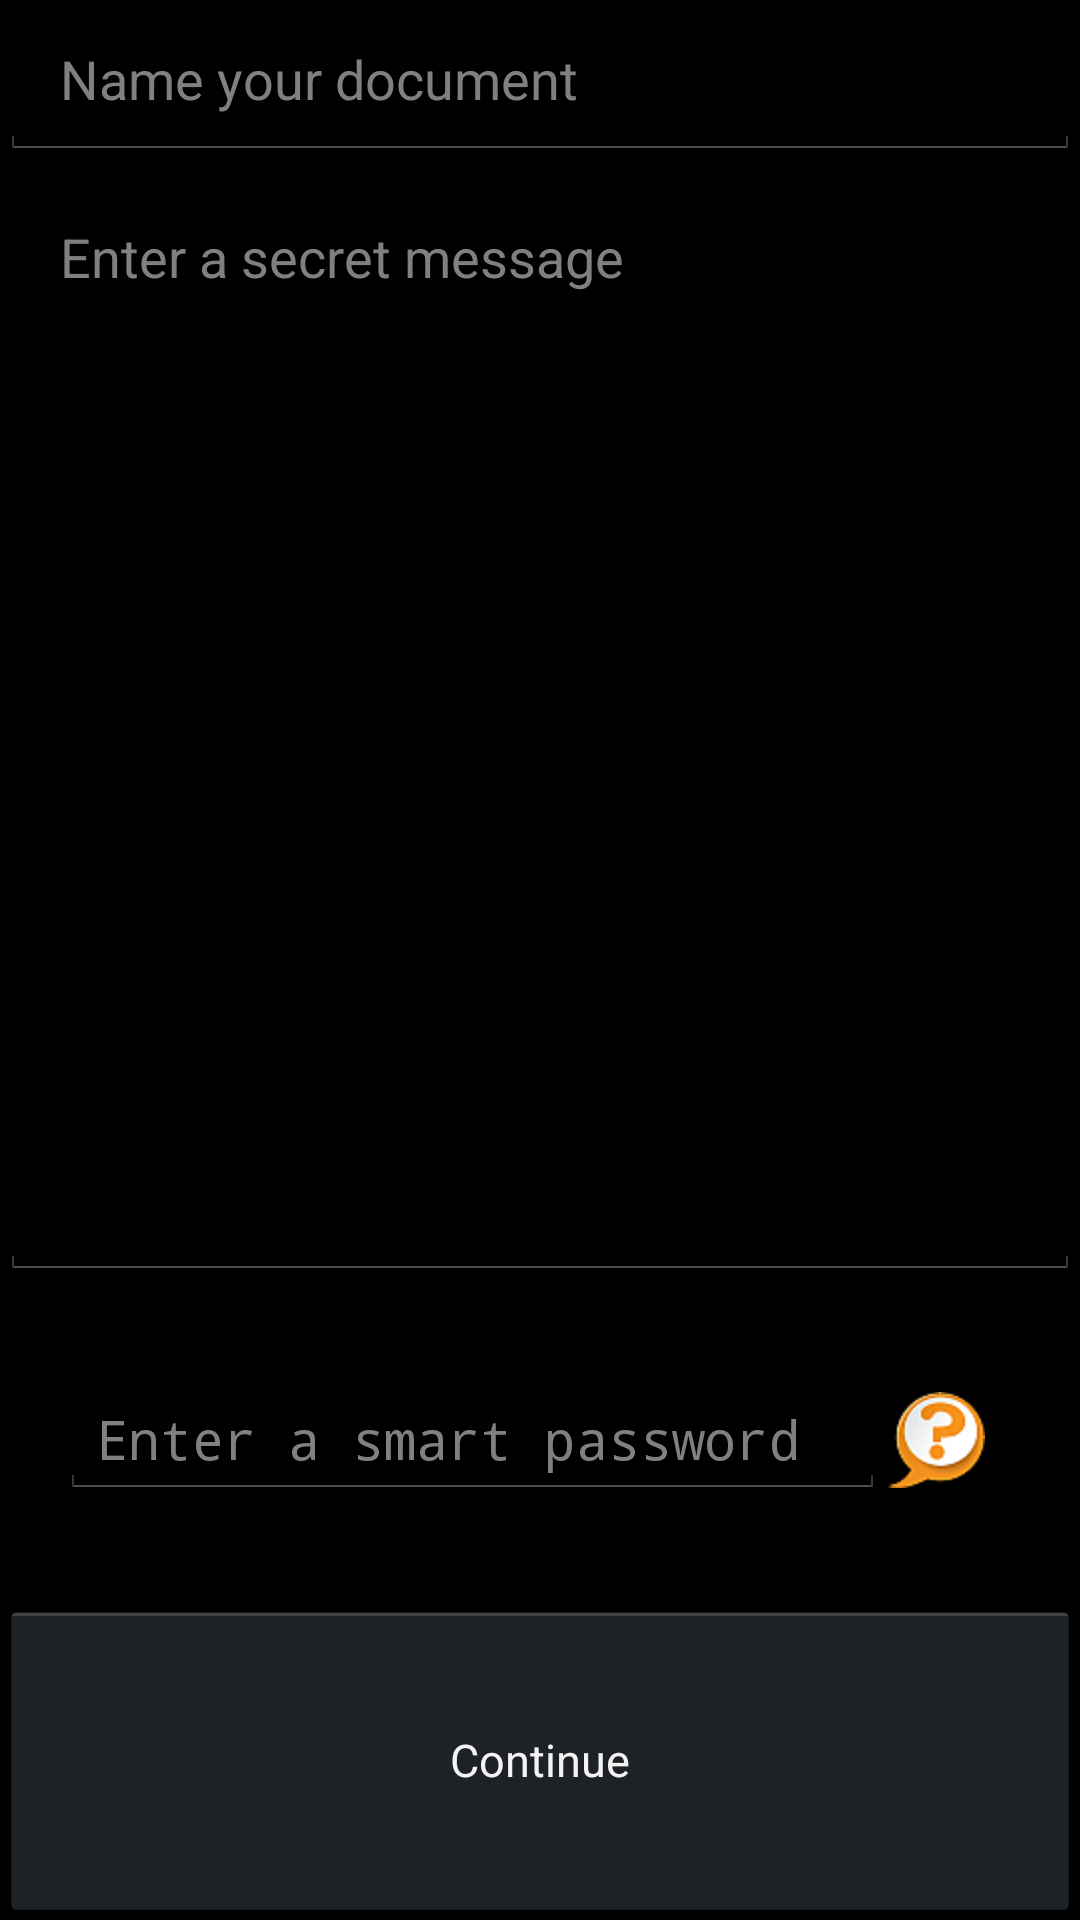

Icons on this 1080 x 1920 Android screen, each with the point to tap as (x=x, y=y):
questionmark: (x=936, y=1440)
